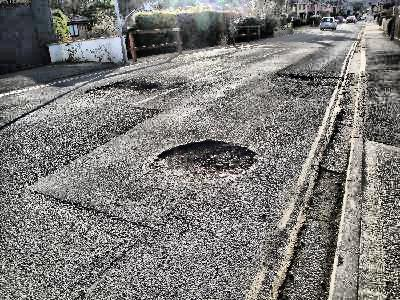pothole: (149, 137, 260, 183), (83, 78, 157, 96), (286, 73, 316, 83)
